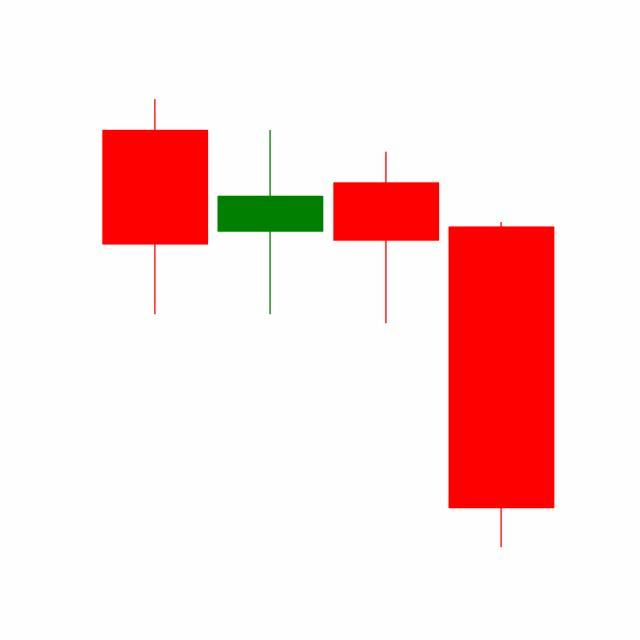Three Outside Up-Down: (211, 125, 555, 548)
